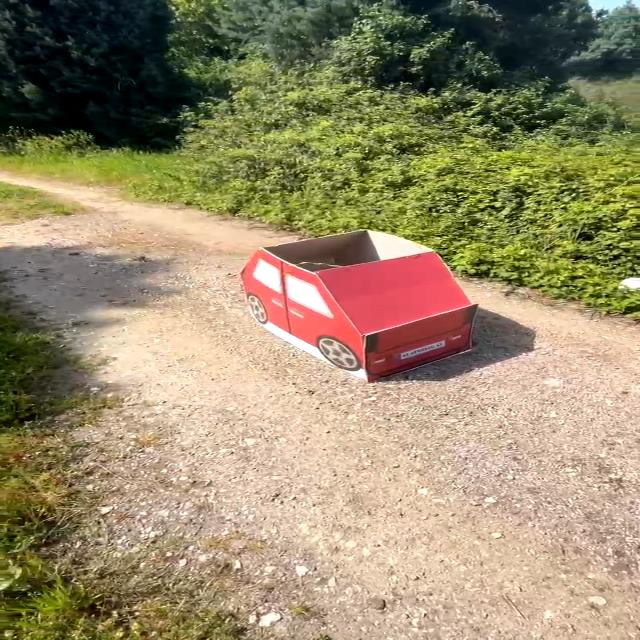red_car: (219, 216, 506, 398)
